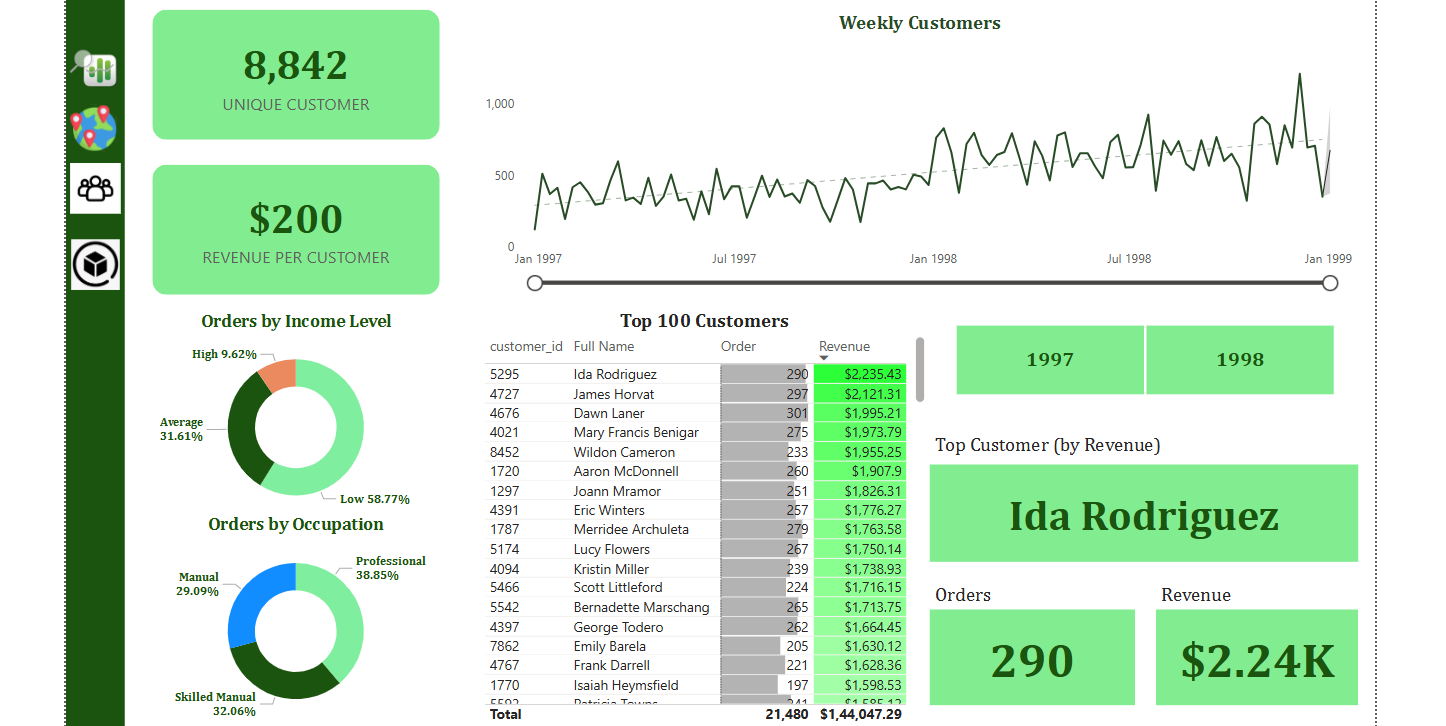

This screenshot's page, from the dashboard's own definition file:
{"tool":"powerbi","page":{"name":"Customers","canvas":[1280,720],"ordinal":2},"visuals":[{"type":"shape","box":[0,0,57.5,720.2],"z":0},{"type":"shape","box":[84.1,17.4,281.2,127.6],"z":1000},{"type":"card","fields":{"Values":["Measure.Total customers"]},"box":[83.9,17.1,281.6,126.6],"z":2000},{"type":"lineChart","title":"Weekly Customers","fields":{"Y":["Measure.Total customers"],"Category":["Calender.Start of Week"]},"box":[404.4,18.8,861.1,276.9],"z":3000},{"type":"shape","box":[84.1,168.2,281.2,127.6],"z":4000},{"type":"card","fields":{"Values":["Measure.AVG revenue per Customer"]},"box":[83.9,167.8,281.6,126.6],"z":5000},{"type":"donutChart","title":"Orders by Income Level","fields":{"Y":["Measure.Total orders"],"Category":["Customers.Income level"]},"box":[84.1,310.2,281.2,210.2],"z":6000},{"type":"donutChart","title":"Orders by Occupation","fields":{"Y":["Measure.Total orders"],"Category":["Customers.occupation"]},"box":[84.1,510.3,281.2,210.2],"z":7000},{"type":"tableEx","title":"Top 100 Customers","fields":{"Values":["Total sales.customer_id","Customers.Full Name","Measure.Total orders","Measure.Total revenue X"]},"box":[403.5,310.6,441.4,409.6],"z":8000},{"type":"card","fields":{"Values":["Customers.Full Name"]},"box":[844.8,462.2,419.6,95.3],"z":9000},{"type":"textbox","box":[844.8,426.7,300.1,51.2],"z":10000},{"type":"card","fields":{"Values":["Measure.Total orders"]},"box":[844.8,604.4,200.5,93.9],"z":11000},{"type":"card","fields":{"Values":["Measure.Total revenue X"]},"box":[1066.7,604.4,197.7,93.9],"z":12000},{"type":"textbox","box":[844.8,573.2,200.5,51.2],"z":13000},{"type":"textbox","box":[1066.7,573.2,197.7,51.2],"z":14000},{"type":"slicer","fields":{"Values":["Calender.Year"]},"box":[844.8,318.6,419.6,81.1],"z":15000},{"type":"actionButton","box":[0,93.1,57.7,40.4],"z":16000},{"type":"actionButton","box":[0,39,57.7,73.6],"z":17000},{"type":"actionButton","box":[0,106.8,77.9,53.4],"z":18000},{"type":"actionButton","box":[0,155.8,57.7,73.6],"z":19000},{"type":"actionButton","box":[0,229.4,57.7,73.6],"z":20000}]}

Visuals, with their boxes on the page's 1280x720 design canvas (x1, y1, x2, y2). These are canvas units, not pixel positions in the 1446x726 screenshot, which may show the page scaled, cropped or inside an application window:
shape: 0,0,58,720
shape: 84,17,365,145
card - Measure.Total customers: 84,17,366,144
"Weekly Customers" lineChart: 404,19,1266,296
shape: 84,168,365,296
card - Measure.AVG revenue per Customer: 84,168,366,294
"Orders by Income Level" donutChart: 84,310,365,520
"Orders by Occupation" donutChart: 84,510,365,720
"Top 100 Customers" tableEx: 404,311,845,720
card - Customers.Full Name: 845,462,1264,558
textbox: 845,427,1145,478
card - Measure.Total orders: 845,604,1045,698
card - Measure.Total revenue X: 1067,604,1264,698
textbox: 845,573,1045,624
textbox: 1067,573,1264,624
slicer - Calender.Year: 845,319,1264,400
actionButton: 0,93,58,134
actionButton: 0,39,58,113
actionButton: 0,107,78,160
actionButton: 0,156,58,229
actionButton: 0,229,58,303
